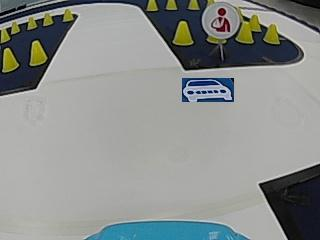cone: (172, 20, 194, 46), (29, 40, 47, 65), (1, 47, 19, 71), (236, 22, 253, 44), (263, 23, 279, 44), (0, 27, 11, 42), (42, 12, 54, 25), (62, 8, 73, 22), (26, 16, 37, 29), (146, 0, 158, 11), (10, 21, 20, 33), (166, 0, 177, 10), (188, 0, 199, 10)
patient: (205, 2, 239, 35)
